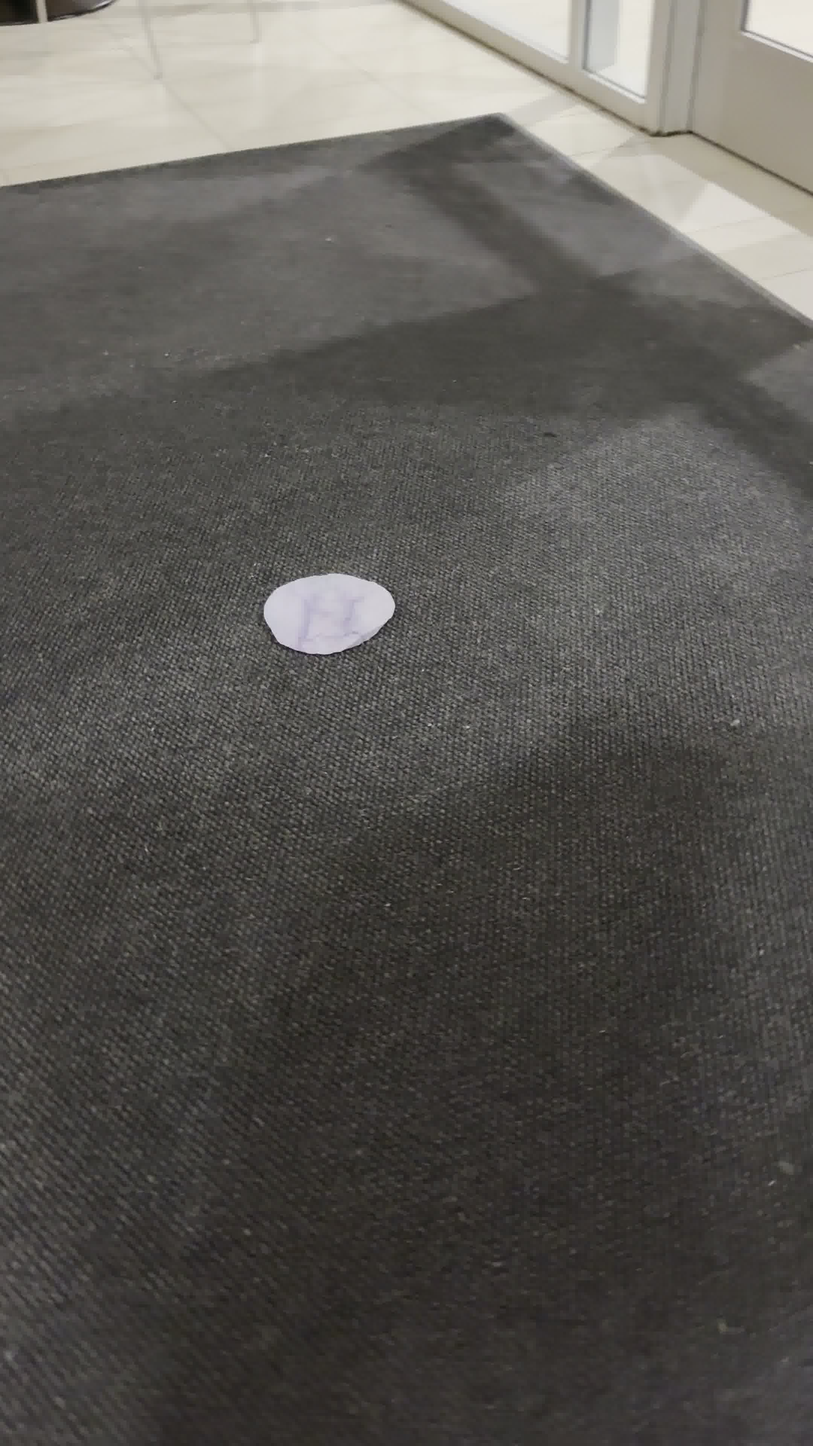Target: (265, 574, 394, 655)
